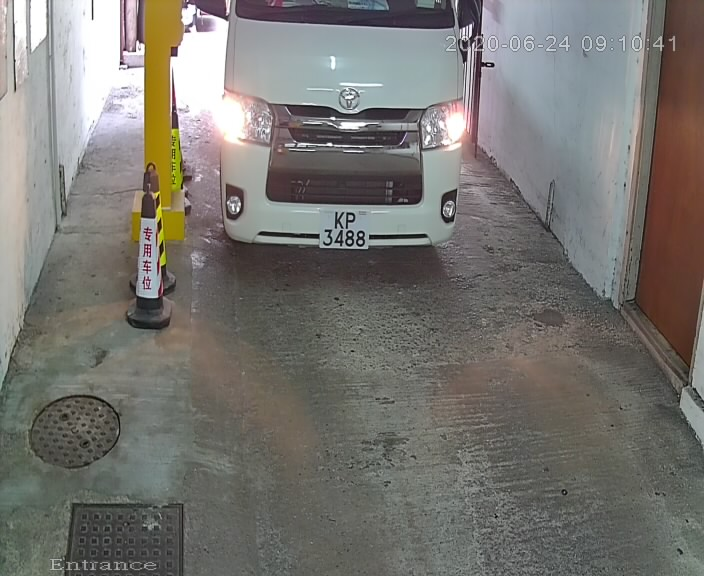privatecar: (197, 1, 490, 282)
